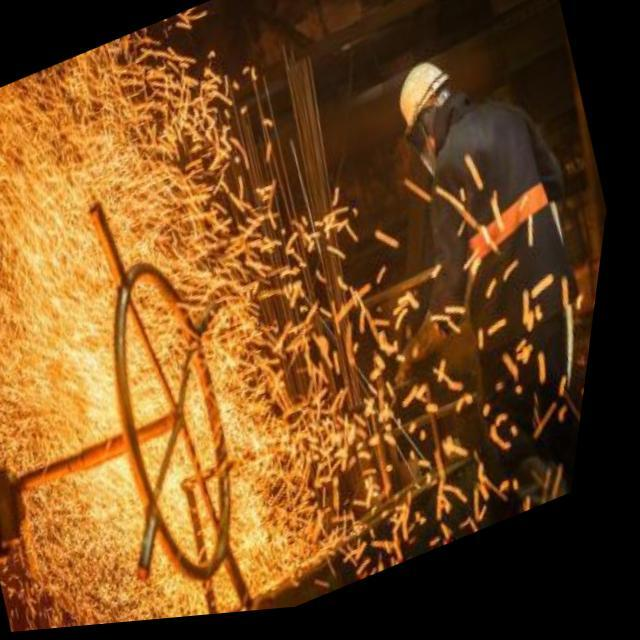belt: (428, 186, 618, 454)
